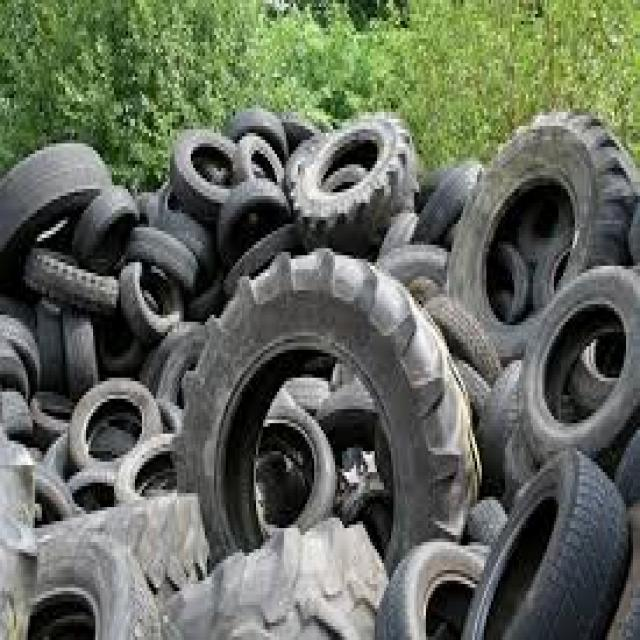Rubber -Non-Biodegradable but Recyclable-: (0, 105, 640, 640)
